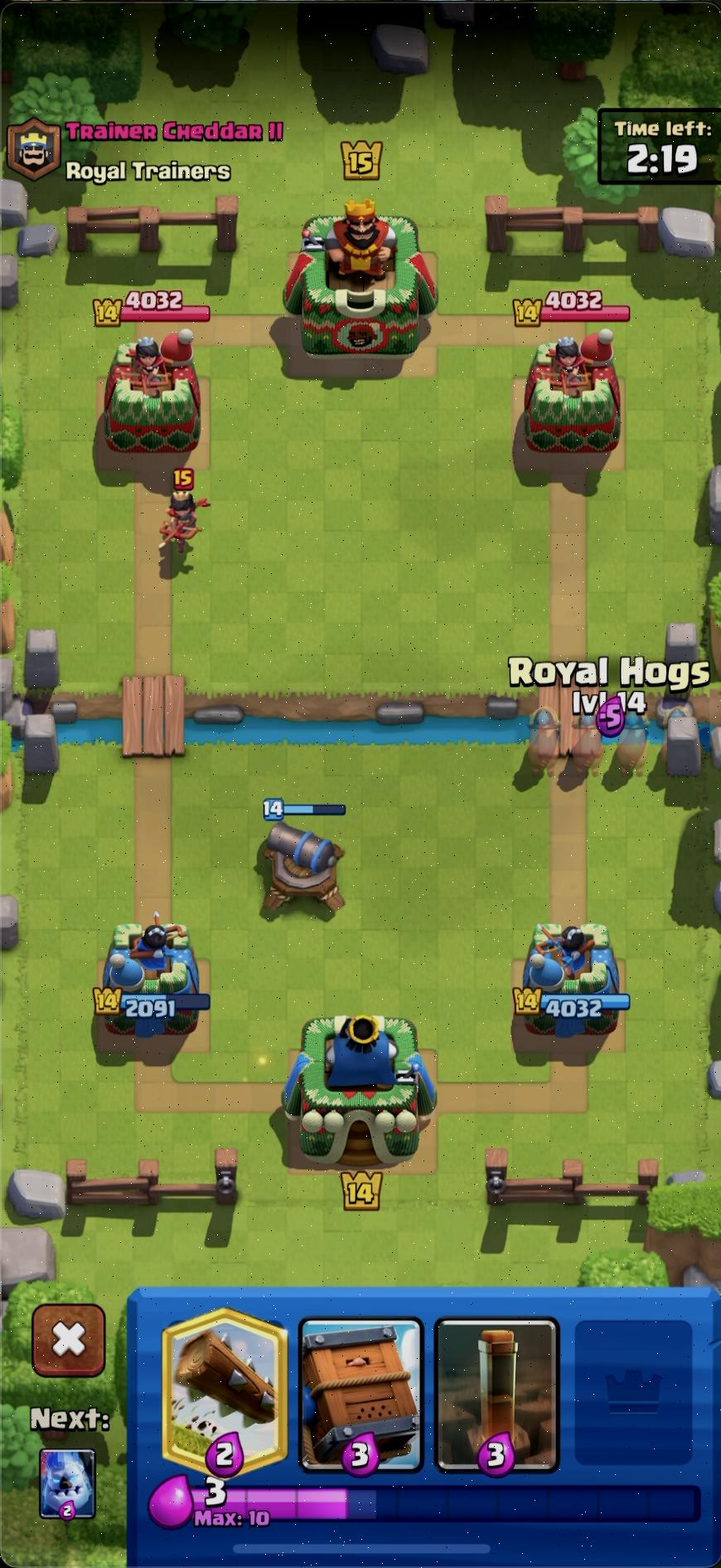card_earthquake: (435, 1315, 561, 1476)
card_icegolem: (36, 1446, 101, 1523)
card_log: (158, 1303, 287, 1476)
card_royaldelivery: (295, 1315, 431, 1476)
